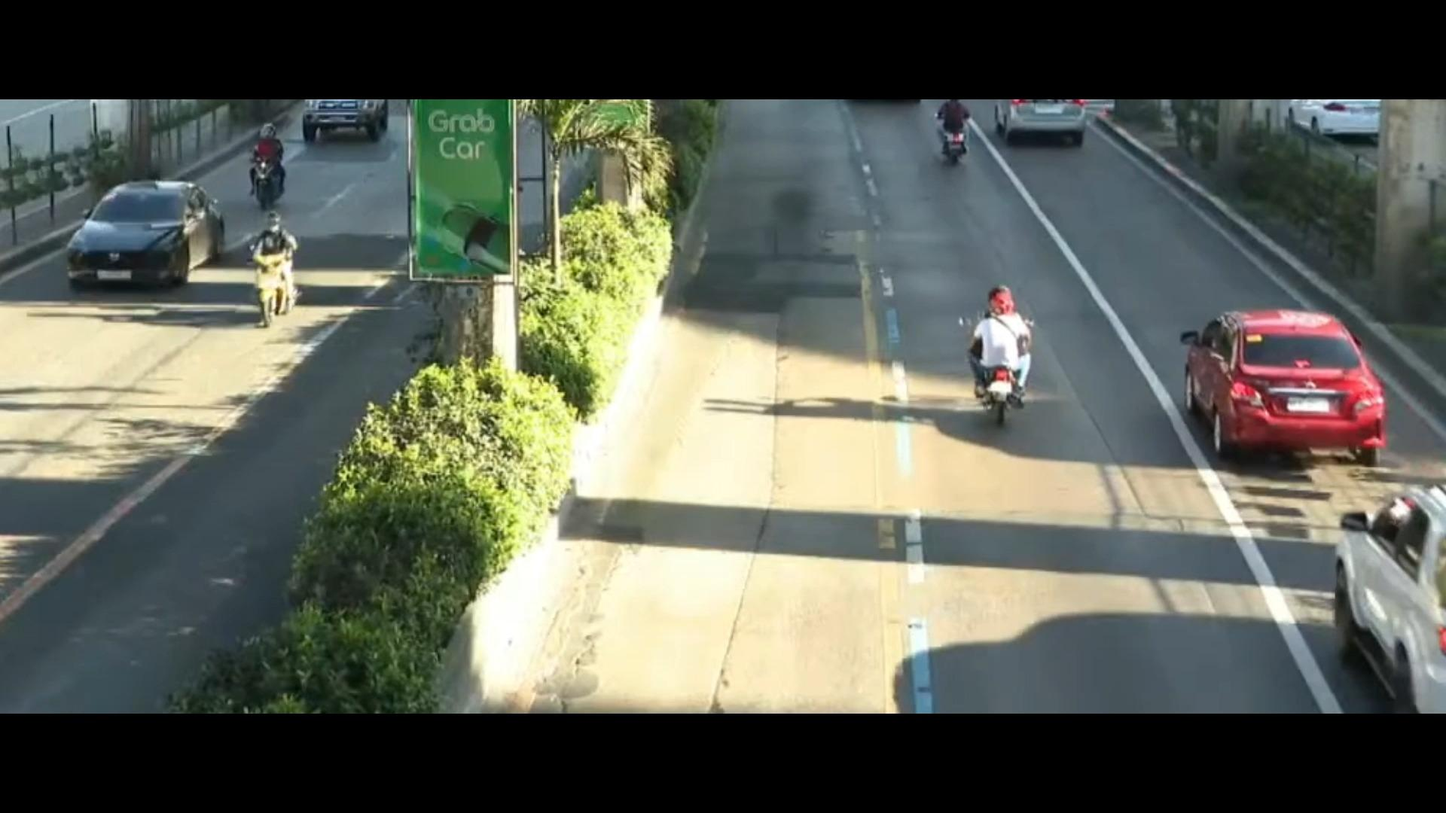Motorcycle: (932, 275, 1060, 444), (236, 207, 313, 348), (241, 117, 307, 211), (926, 100, 991, 178)
SUV: (1301, 454, 1446, 727)
Sedan: (1165, 277, 1412, 479), (52, 166, 245, 303)
